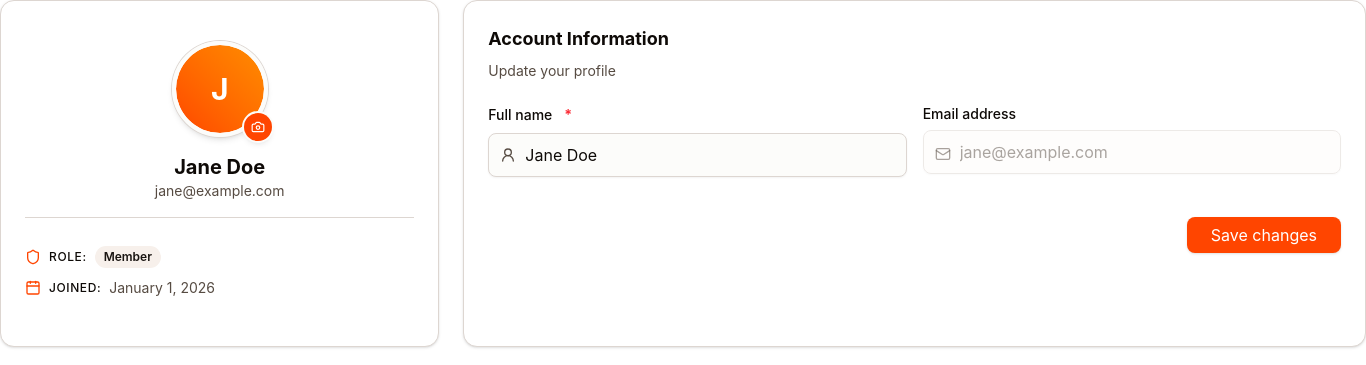
Test: ProfileForm › shows a validation error and does not submit when the name is too short
The width and height of the screenshot is (1366, 365).
Replace the text in the field labelled "Full name" with "J" at (697, 155), box [488,133,907,177]
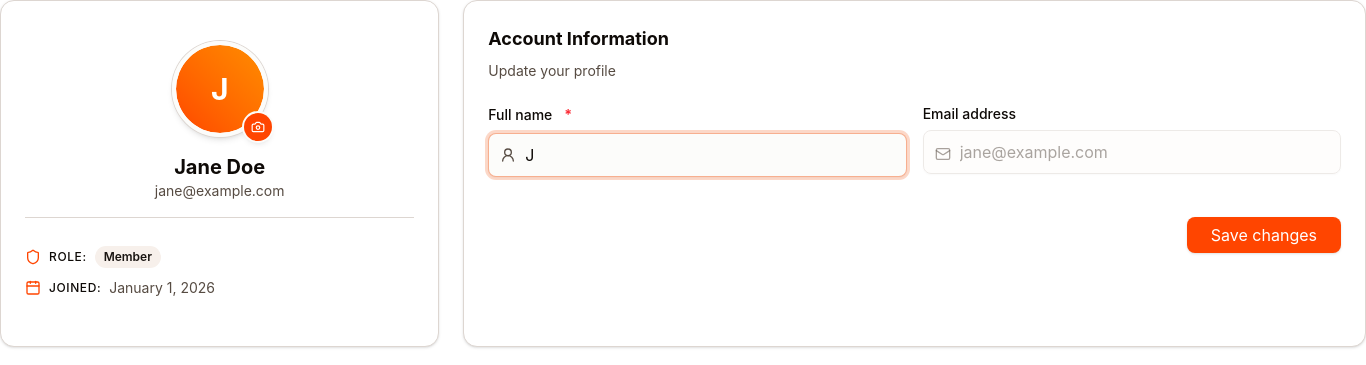
Click the button "Save changes" at (1264, 235), box [1187,217,1341,253]
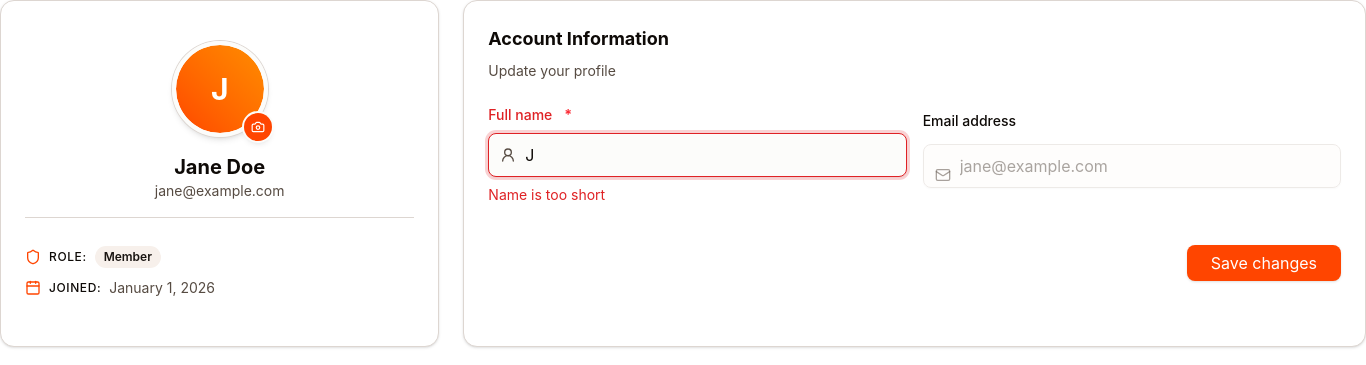
Expected: the text "Name is too short" is shown, [488,186,605,203]
